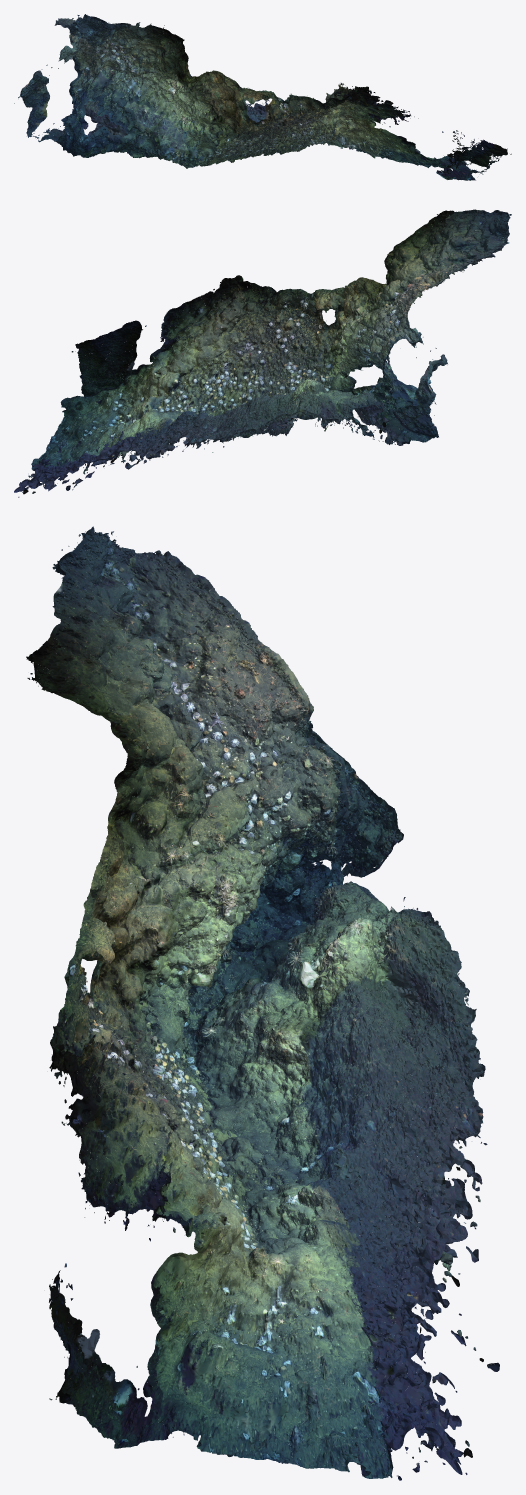
File: octopus_garden.glb
3 views of the same model, one above another, from view 1: azimuth 30°, elevation 25°; view 2: azimuth 150°, elevation 25°; view 3: azimuth 270°, elevation 25° (orthographic). The views are drawn at different scales.
Visible parts, largest first — view 1: model; view 2: model; view 3: model.
Part boxes in pixels (<box>): model: <box>14,14,511,180</box>; model: <box>14,209,511,497</box>; model: <box>26,526,499,1480</box>.
Bounding box in the file's own units: 59.87 × 39.12 × 28.67.
Materials: 4 (4 with a texture image).
